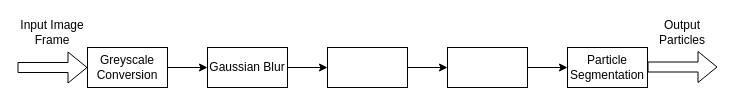
The diagram is 734 pixels wide and 105 high, and some of its shapes have lost their labels. The centre of each missing label's shape, as x and y in pixels:
Canny Algorithm: point 487,67
Histogram Equalisation: point 367,67
